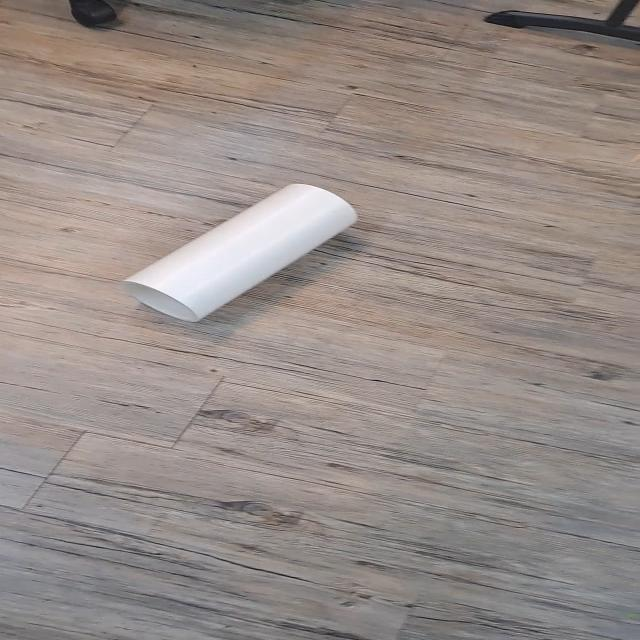CORAL: (101, 172, 376, 337)
